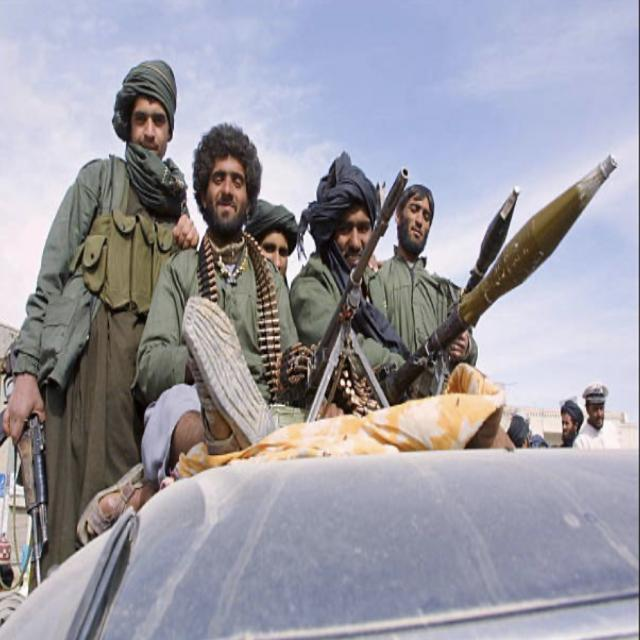bazooka: (390, 141, 623, 401)
